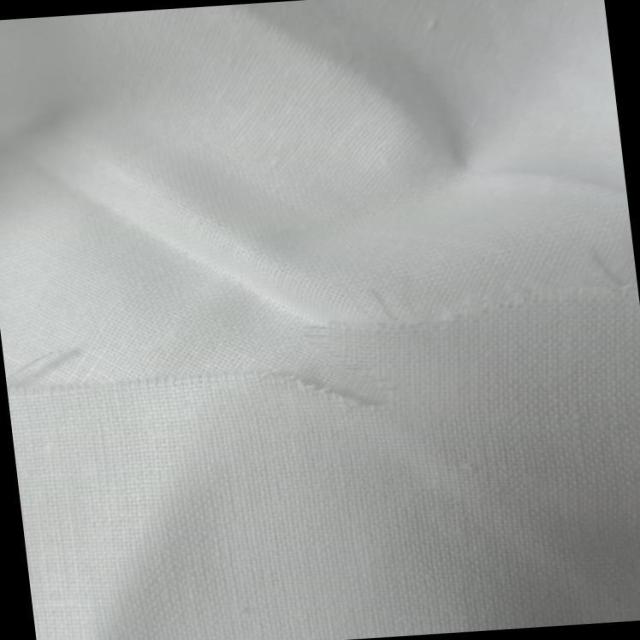cut: (268, 312, 404, 419)
